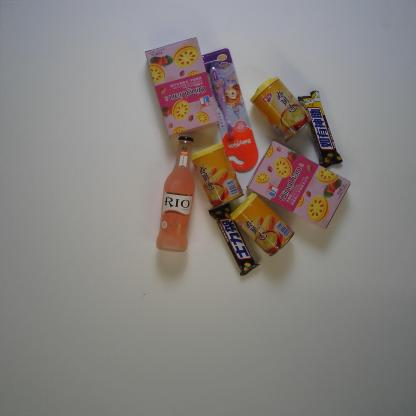Alcohol: (155, 135, 196, 253)
Canned Food: (230, 192, 295, 258), (249, 76, 313, 143), (190, 143, 245, 209)
Chocolate: (208, 202, 261, 276), (297, 90, 343, 169)
Dessert: (245, 140, 352, 231), (144, 36, 220, 140)
Personal Hygiene: (202, 48, 260, 172)
